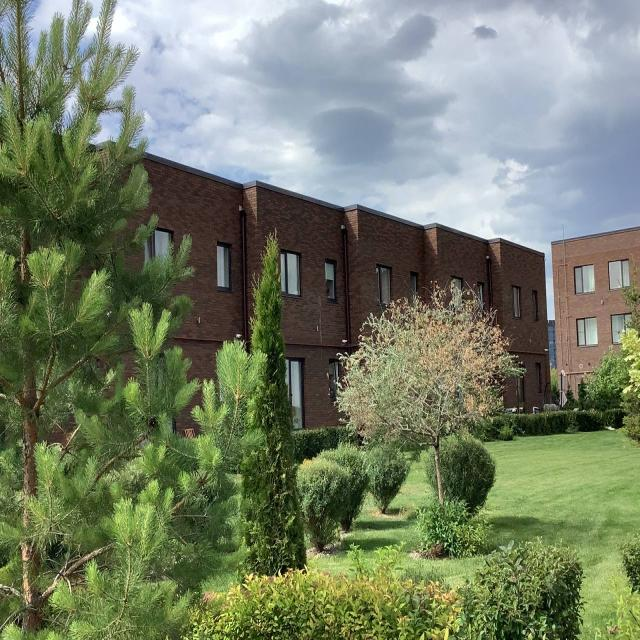Building: (149, 153, 555, 428)
